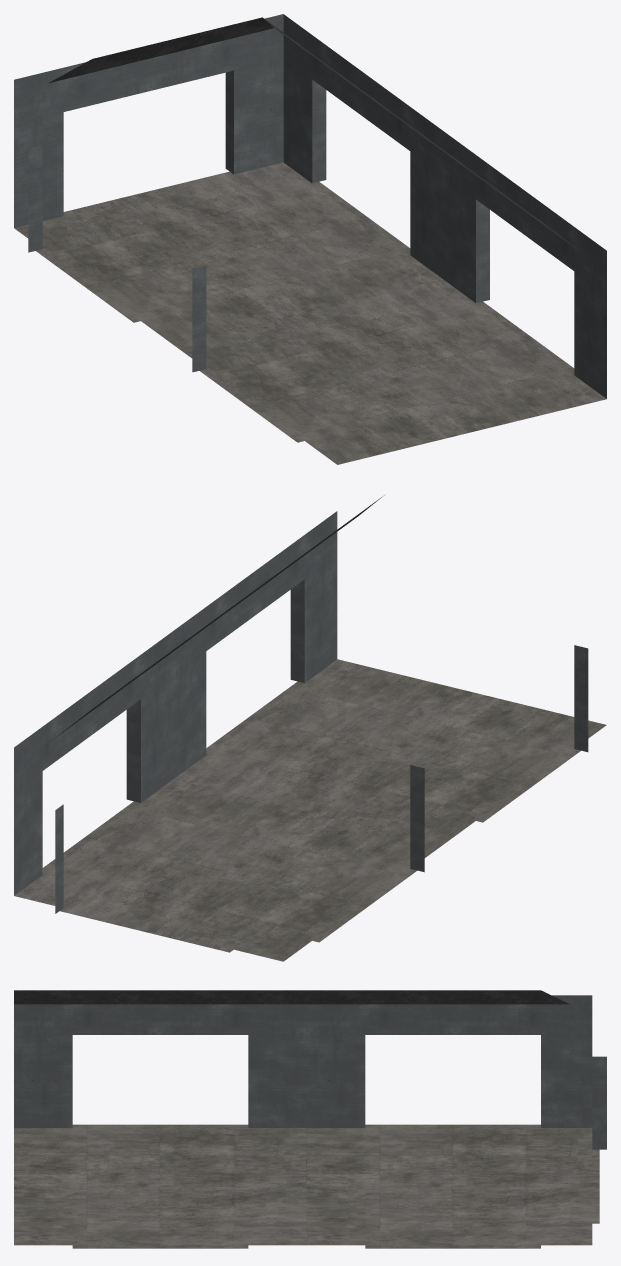
Rendered from hallway_end.glb.
3 renders of one model, top to bottom at view 1: azimuth 30°, elevation 25°; view 2: azimuth 150°, elevation 25°; view 3: azimuth 270°, elevation 25°, orthographic. The views are drawn at different scales.
Visible parts, largest first — view 1: EndHallway -col; view 2: EndHallway -col; view 3: EndHallway -col.
Part boxes in pixels (x1,y1,x2,y2): EndHallway -col: (14, 14, 606, 464); EndHallway -col: (14, 494, 606, 961); EndHallway -col: (14, 990, 606, 1248).
Size of the model in its own units: 10.5 by 6 by 20.25.
Materials: 3 (3 with a texture image).
